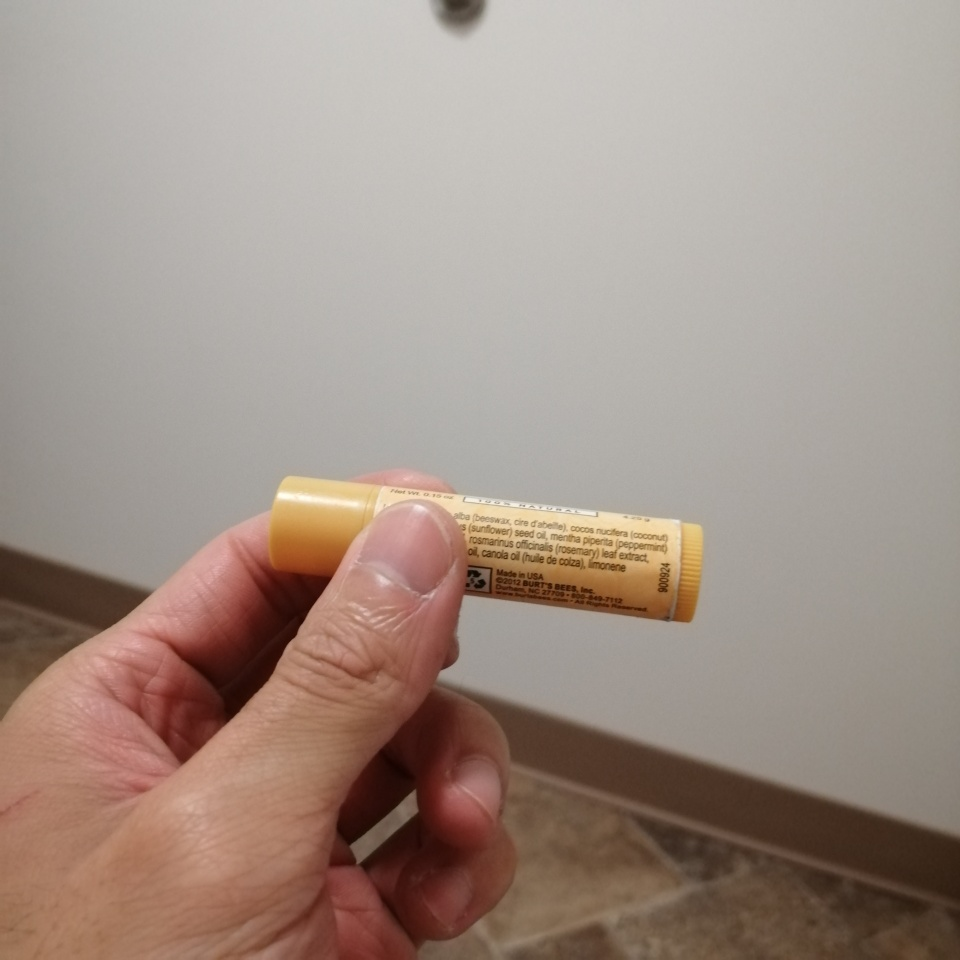chapstick: (268, 475, 705, 625)
